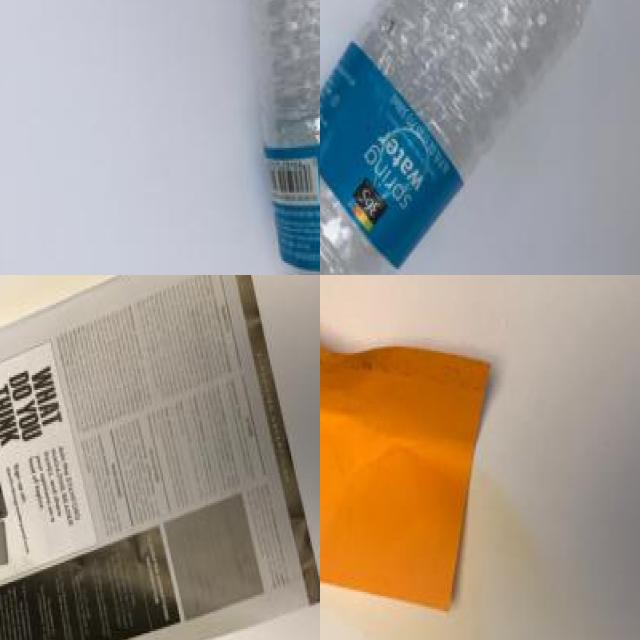paper: (0, 275, 320, 640), (320, 305, 514, 615)
plastic: (320, 0, 597, 275), (248, 0, 320, 275)
